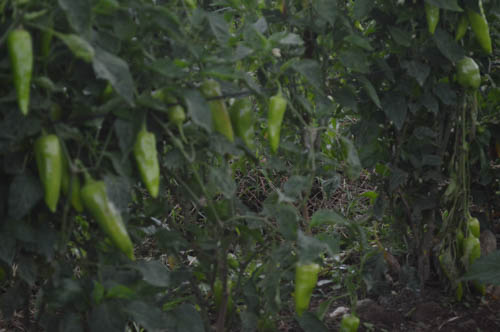ChiliPepper: (86, 180, 138, 257), (8, 31, 36, 115), (37, 135, 61, 217), (134, 130, 159, 198), (204, 84, 231, 138), (293, 261, 317, 309), (469, 4, 492, 50), (265, 97, 284, 152), (233, 97, 250, 143), (456, 59, 478, 88)
